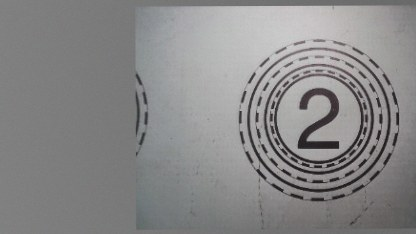2r: (238, 39, 399, 202)
